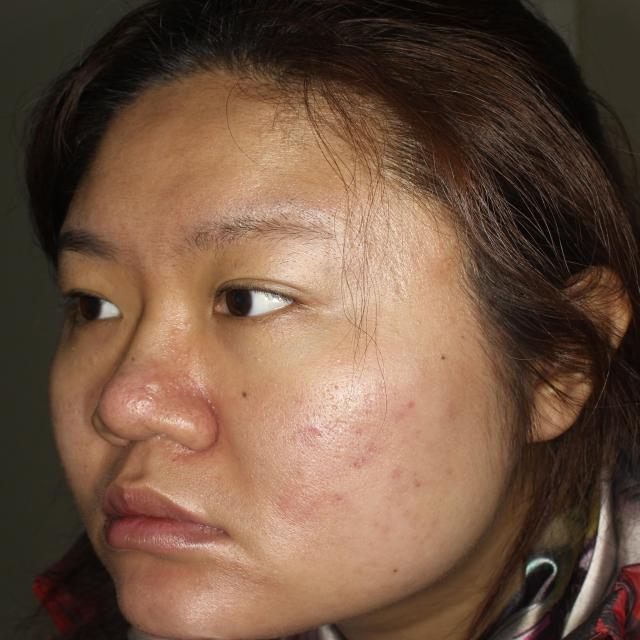comedone: (349, 436, 377, 471), (317, 486, 343, 511)
